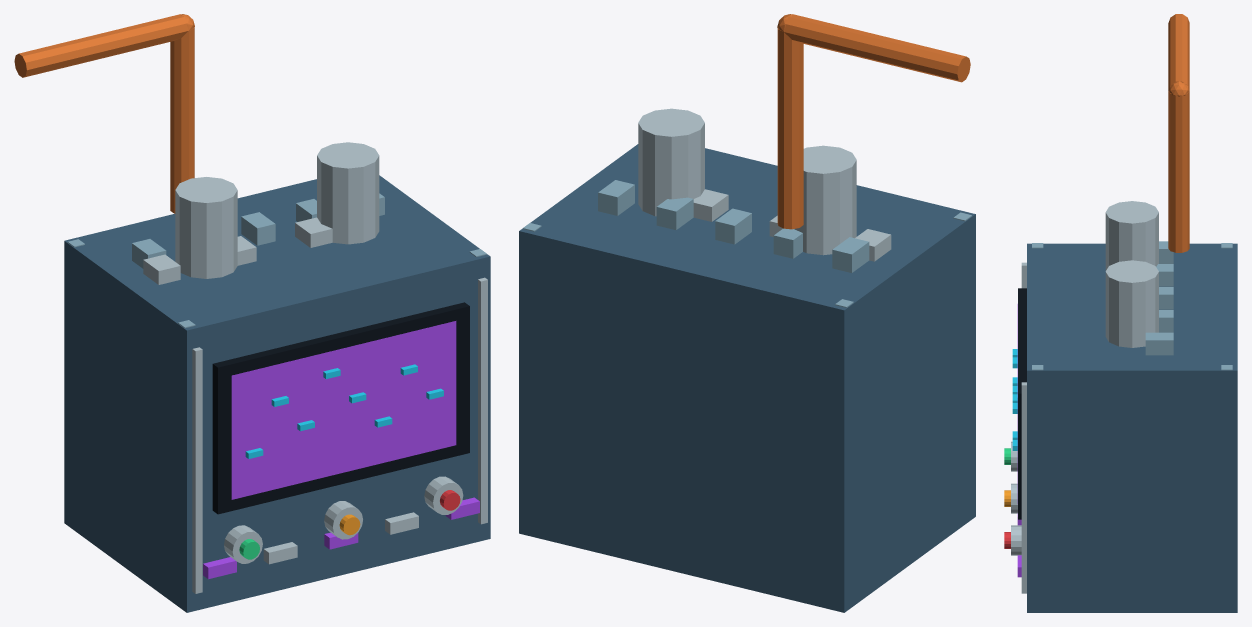
Rendered from 20_L72_MassFlowControllerB.fbx.
3 renders of one model, left to right at view 1: azimuth 30°, elevation 25°; view 2: azimuth 150°, elevation 25°; view 3: azimuth 270°, elevation 25°, orthographic. The views are drawn at different scales.
Parts seen in each view (by area): view 1: MassFlowControllerB; view 2: MassFlowControllerB; view 3: MassFlowControllerB.
Part boxes in pixels (bbox=[...]): MassFlowControllerB: bbox=[14, 14, 490, 612]; MassFlowControllerB: bbox=[519, 14, 975, 612]; MassFlowControllerB: bbox=[1004, 14, 1237, 612].
Bounding box in the file's own units: 113 × 145 × 69.77.
